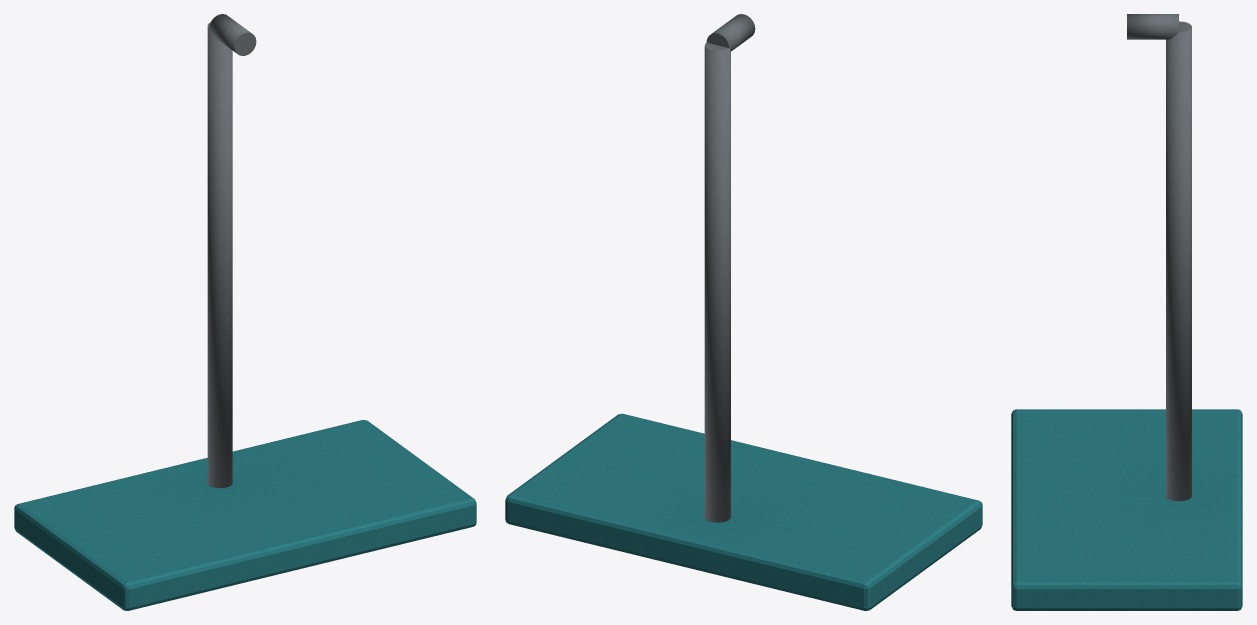
The picture shows the model from 3 angles, left to right: view 1: azimuth 30°, elevation 25°; view 2: azimuth 150°, elevation 25°; view 3: azimuth 270°, elevation 25°; orthographic projection. The views are drawn at different scales.
Bounding box in the file's own units: 1.45 × 1.95 × 0.8.
Materials: 1 (1 with a texture image).
